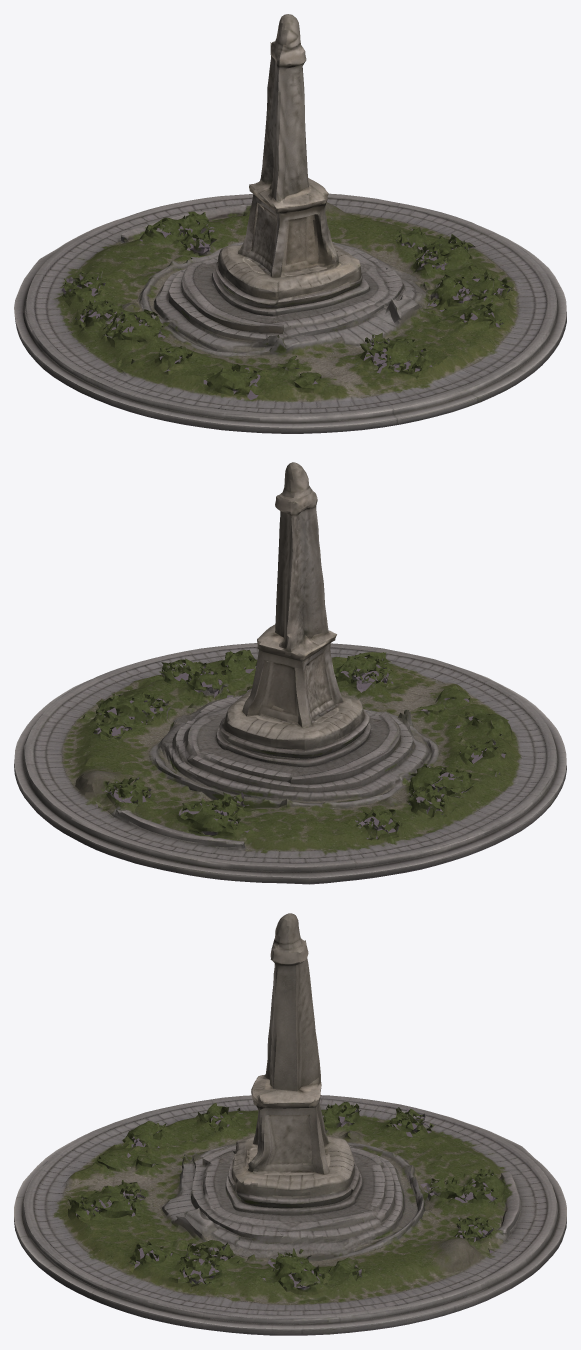
Rendered from pracinha.glb.
The picture shows the model from 3 angles, top to bottom: view 1: azimuth 30°, elevation 25°; view 2: azimuth 150°, elevation 25°; view 3: azimuth 270°, elevation 25°; orthographic projection.
Parts seen in each view (by area): view 1: Mesh0; view 2: Mesh0; view 3: Mesh0.
Boxes of the visible parts, left/top/right/bottom form: Mesh0: left=14, top=14, right=566, bottom=433; Mesh0: left=14, top=462, right=566, bottom=884; Mesh0: left=14, top=913, right=566, bottom=1335.
Size of the model in its own units: 1.9 by 1.15 by 1.9.
1 material, 1 textured.
